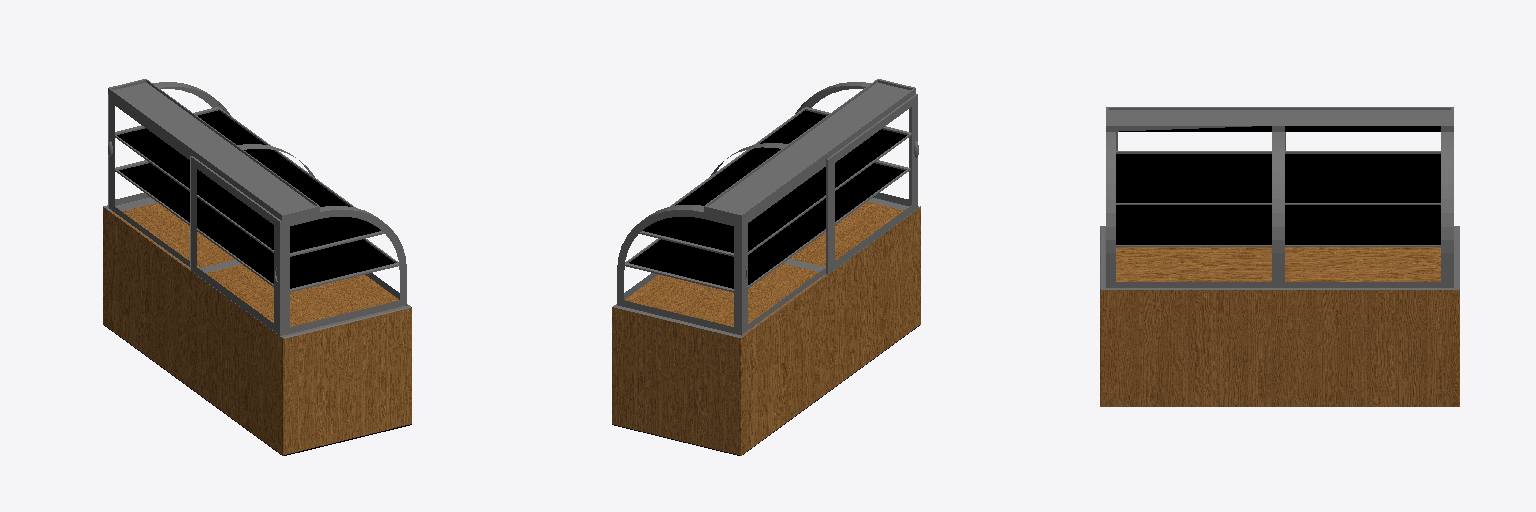
3 renders of one model, left to right at view 1: azimuth 30°, elevation 25°; view 2: azimuth 150°, elevation 25°; view 3: azimuth 270°, elevation 25°, orthographic.
Parts seen in each view (by area): view 1: polySurface215; view 2: polySurface215; view 3: polySurface215.
Boxes of the visible parts, x1,y1,x2,y2 form: polySurface215: [103, 79, 411, 455]; polySurface215: [612, 79, 920, 455]; polySurface215: [1100, 107, 1459, 406].
Size of the model in its own units: 1.25 by 2.17 by 2.97.
6 materials, 1 textured.